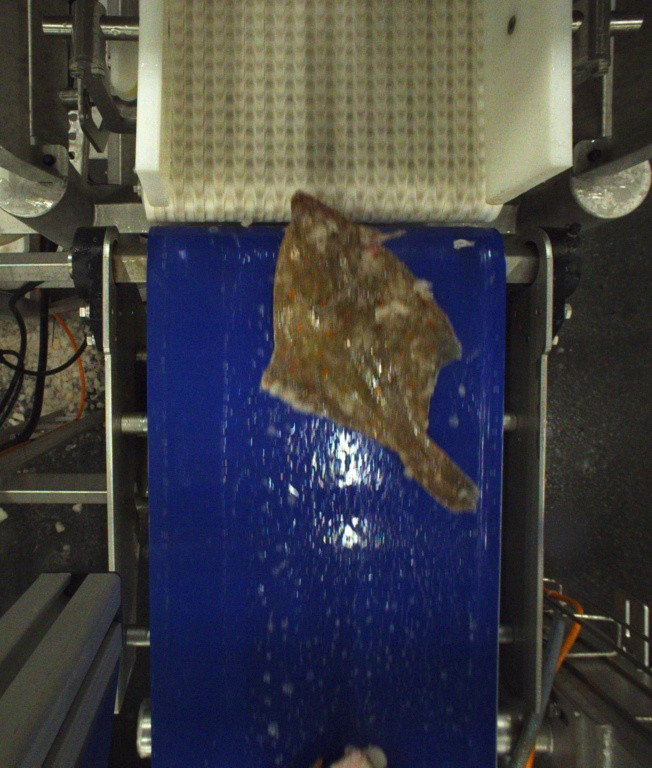PLE: (260, 191, 484, 511)
